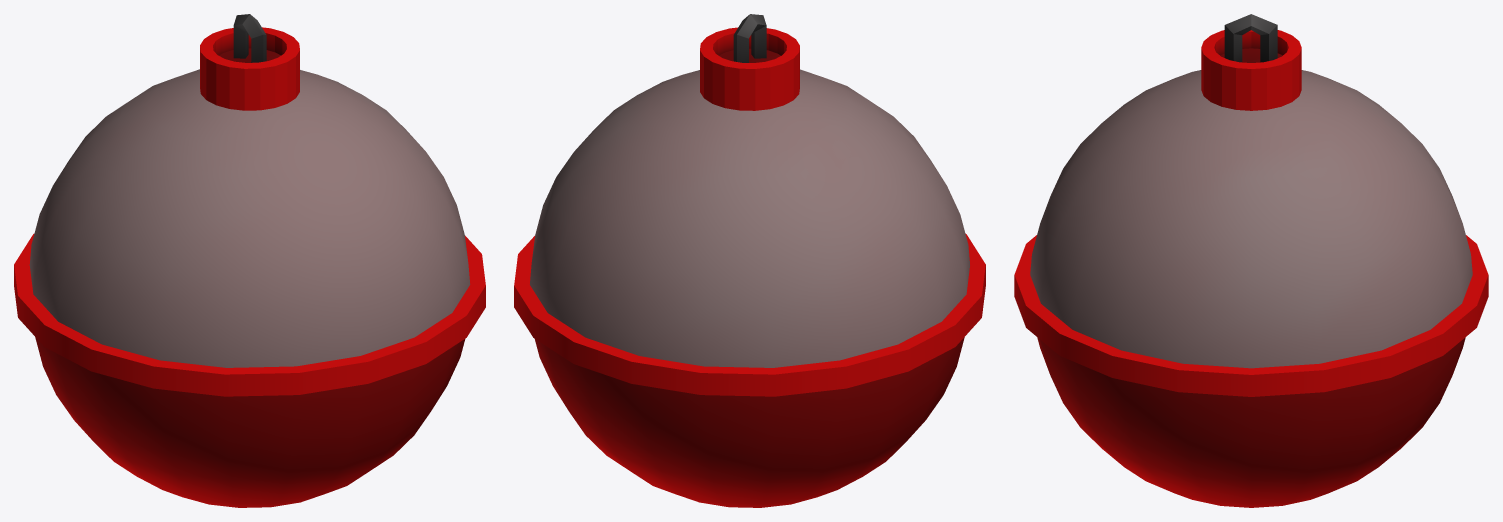
Rendered from ENV_Fishing_Bobber_01.fbx.
The picture shows the model from 3 angles, left to right: view 1: azimuth 30°, elevation 25°; view 2: azimuth 150°, elevation 25°; view 3: azimuth 270°, elevation 25°; orthographic projection.
Parts seen in each view (by area): view 1: ENV_Fishing_Bobber_01; view 2: ENV_Fishing_Bobber_01; view 3: ENV_Fishing_Bobber_01.
Boxes of the visible parts, x1,y1,x2,y2 form: ENV_Fishing_Bobber_01: (14, 14, 485, 507); ENV_Fishing_Bobber_01: (514, 14, 985, 507); ENV_Fishing_Bobber_01: (1014, 14, 1488, 507).
Bounding box in the file's own units: 36.61 × 40.32 × 36.61.
